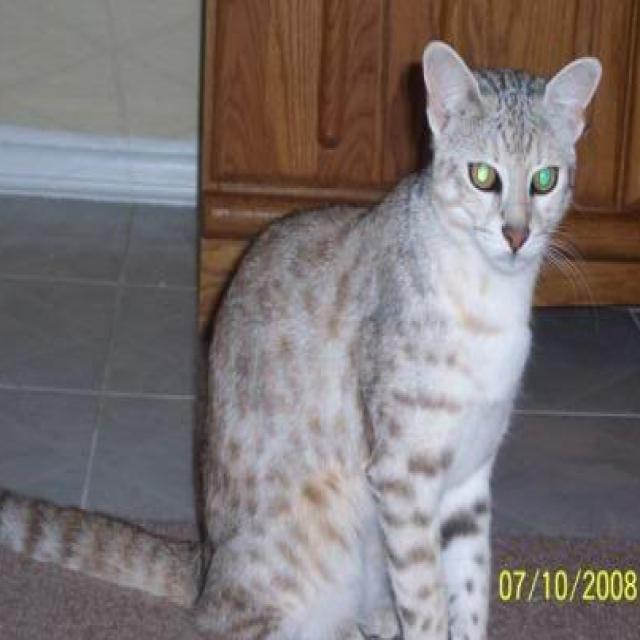Egyptian Mau: (0, 36, 607, 640)
